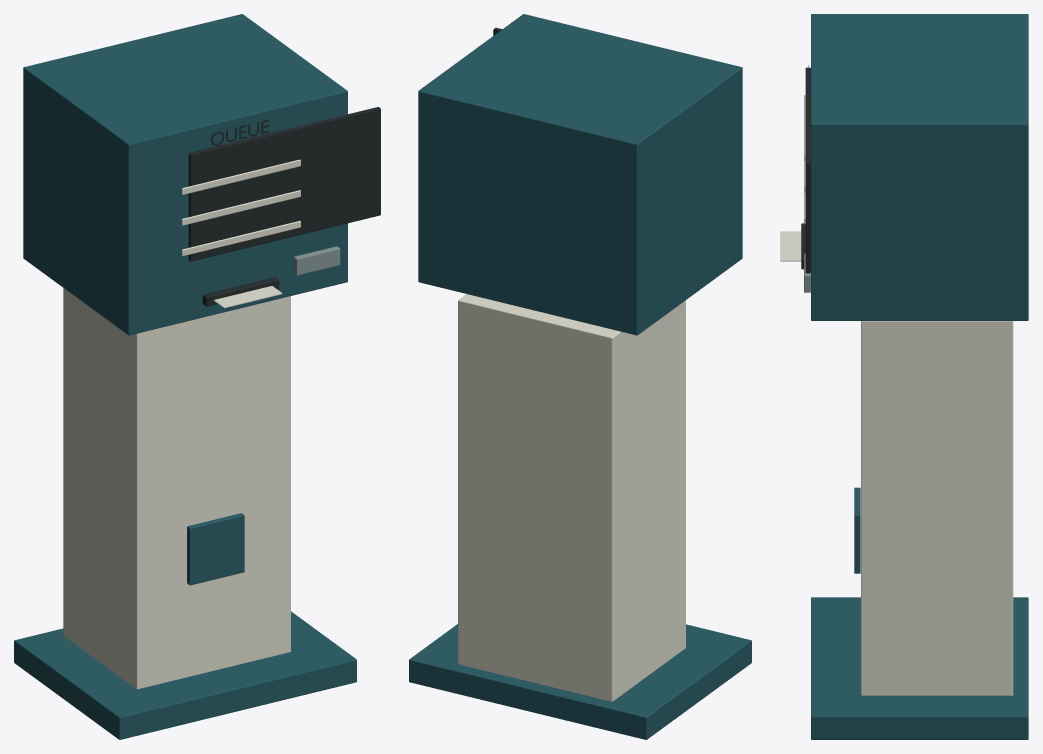
The model's file is source-edit.glb.
3 views of the same model, side by side, from view 1: azimuth 30°, elevation 25°; view 2: azimuth 150°, elevation 25°; view 3: azimuth 270°, elevation 25° (orthographic). The views are drawn at different scales.
Parts seen in each view (by area): view 1: Pedestal, Head, Display, Foot, Wheelchair_Clearance_Marker, Speaker, Interface_Line, Interface_Line.001, Interface_Line.002, Ticket_Slot, Paper; view 2: Head, Pedestal, Foot; view 3: Head, Pedestal, Foot, Display, Paper, Wheelchair_Clearance_Marker.
Part boxes in pixels (bbox=[...]): Pedestal: bbox=[63, 288, 290, 689]; Head: bbox=[23, 14, 347, 335]; Display: bbox=[188, 107, 380, 261]; Foot: bbox=[14, 611, 356, 739]; Wheelchair_Clearance_Marker: bbox=[187, 513, 244, 585]; Speaker: bbox=[293, 246, 340, 275]; Interface_Line: bbox=[182, 159, 300, 194]; Interface_Line.001: bbox=[182, 190, 300, 225]; Interface_Line.002: bbox=[182, 221, 300, 256]; Ticket_Slot: bbox=[202, 277, 279, 306]; Paper: bbox=[213, 286, 282, 308]; Head: bbox=[418, 14, 742, 335]; Pedestal: bbox=[458, 294, 685, 701]; Foot: bbox=[409, 624, 751, 739]; Head: bbox=[811, 14, 1028, 320]; Pedestal: bbox=[861, 321, 1013, 695]; Foot: bbox=[811, 597, 1028, 739]; Display: bbox=[805, 67, 810, 273]; Paper: bbox=[780, 231, 801, 261]; Wheelchair_Clearance_Marker: bbox=[854, 487, 860, 573].
Bounding box in the file's own units: 0.708 × 1.55 × 0.57.
